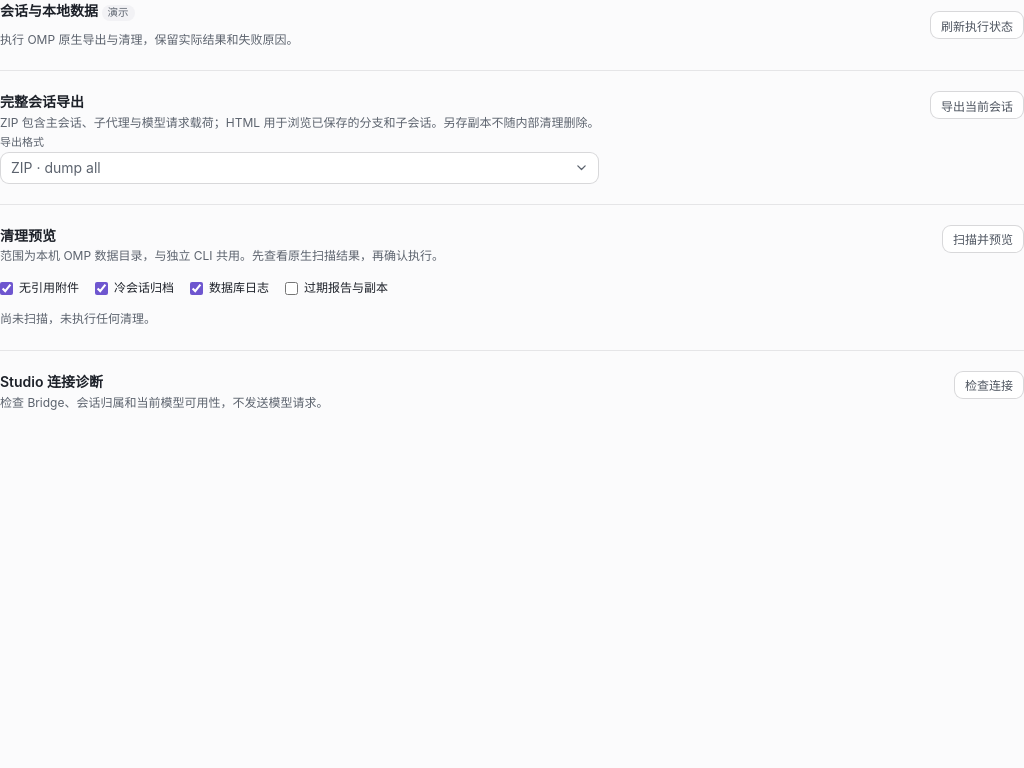
Test: previews cleanup, confirms it explicitly, and exports locally without any real writes
The image size is (1024, 768).
Expected: the button "确认清理…" is not shown
Step 1. Click the button "扫描并预览" → (983, 239), box [942,225,1023,253]
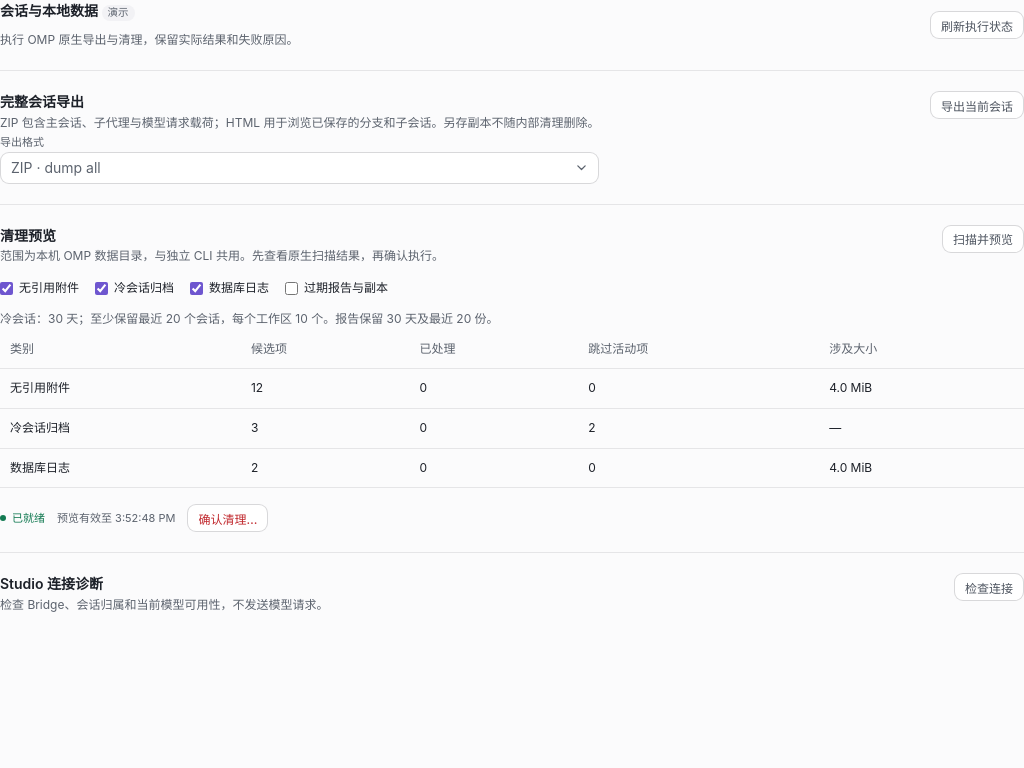
Step 2. Click the button "确认清理…" → (228, 518), box [187,504,268,532]
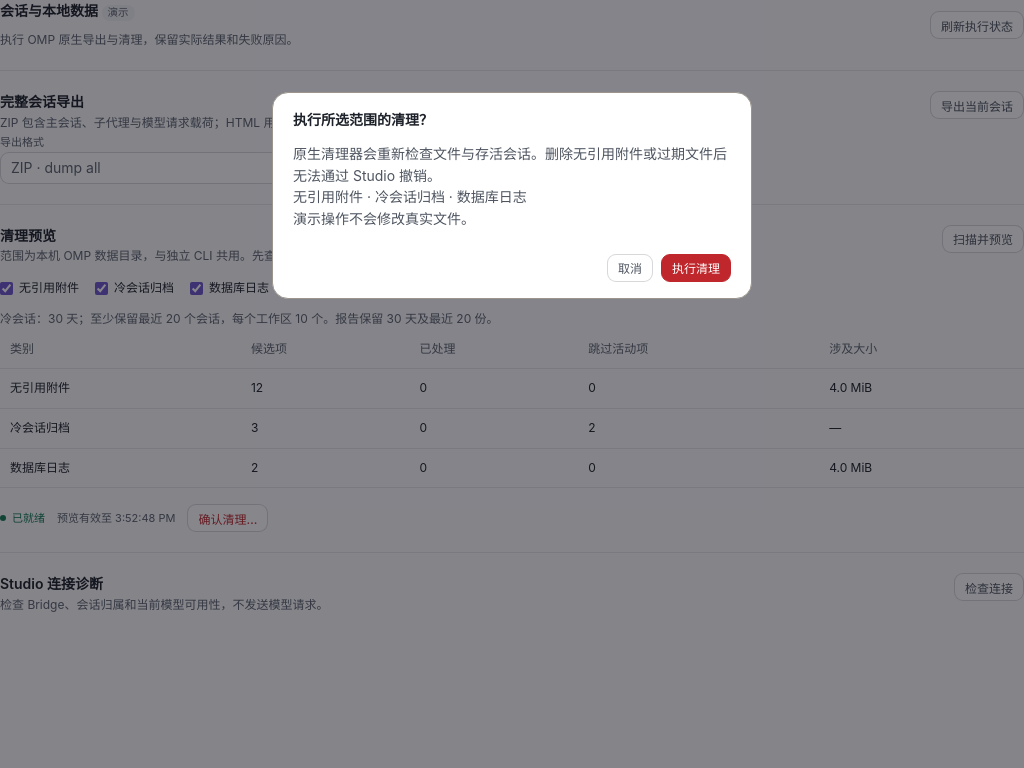
Now the dialog named "确认本地清理" is shown, box [272,92,752,299]
Step 3. Click the button "执行清理" → (696, 268), box [661,254,731,282]
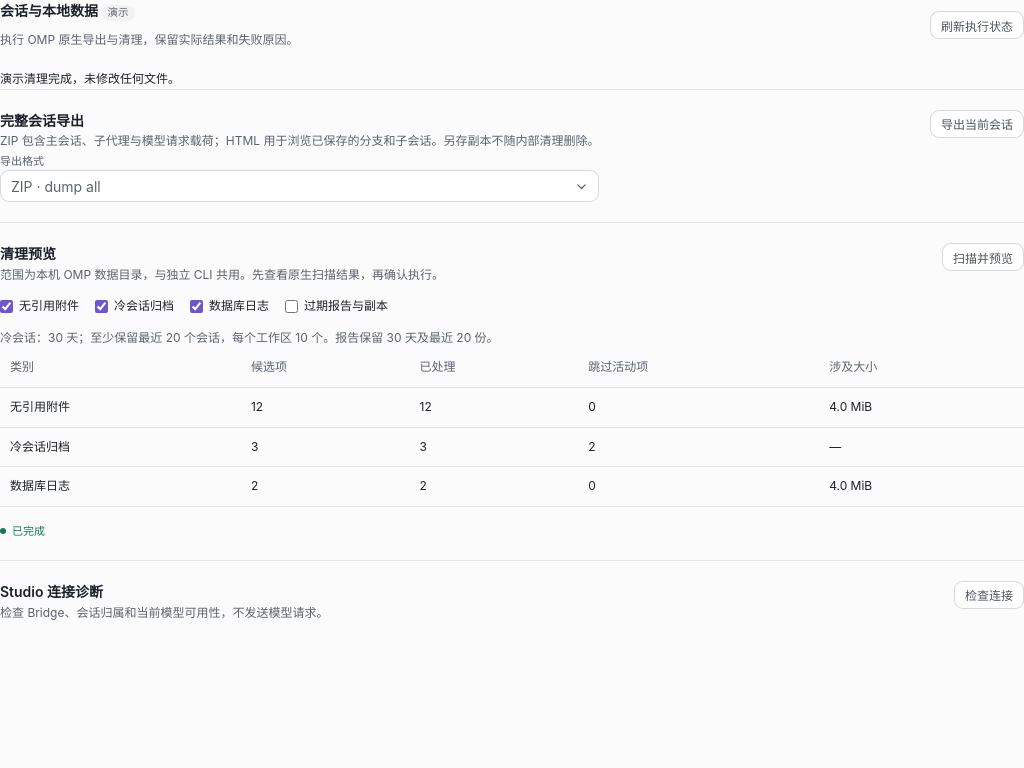
Now the text "演示清理完成，未修改任何文件。" is shown, box [0,71,180,86]
Step 4. Click the button "导出当前会话" → (977, 124), box [930,110,1023,138]
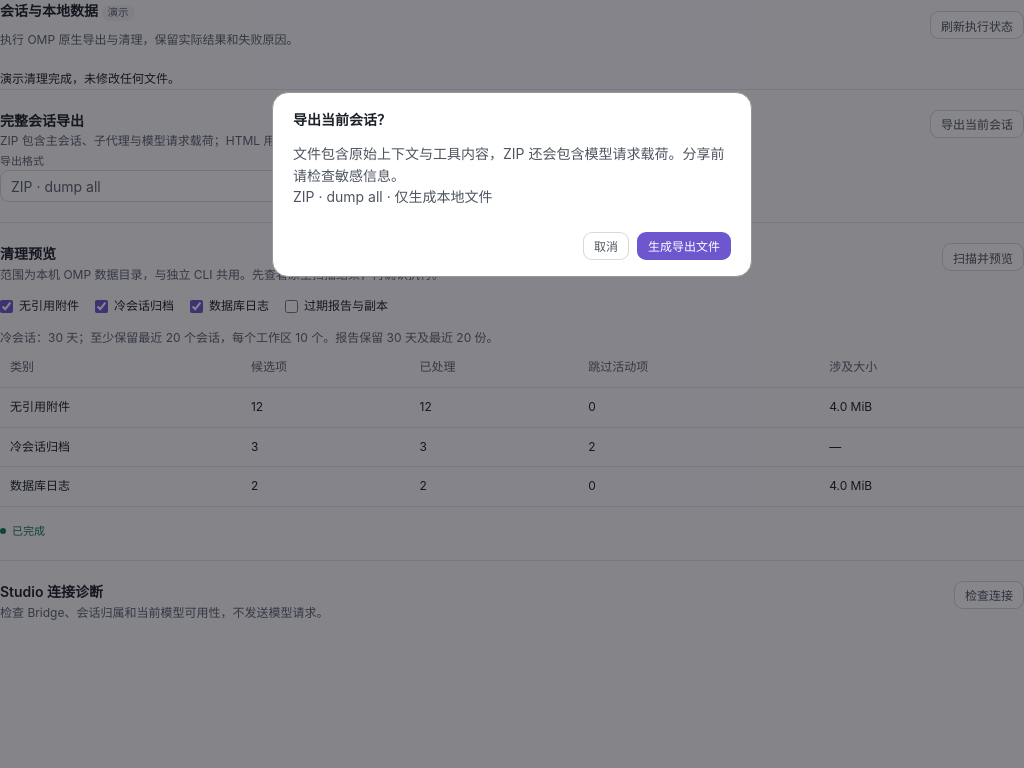
Step 5. Click the button "生成导出文件" → (684, 246), box [637,232,731,260]
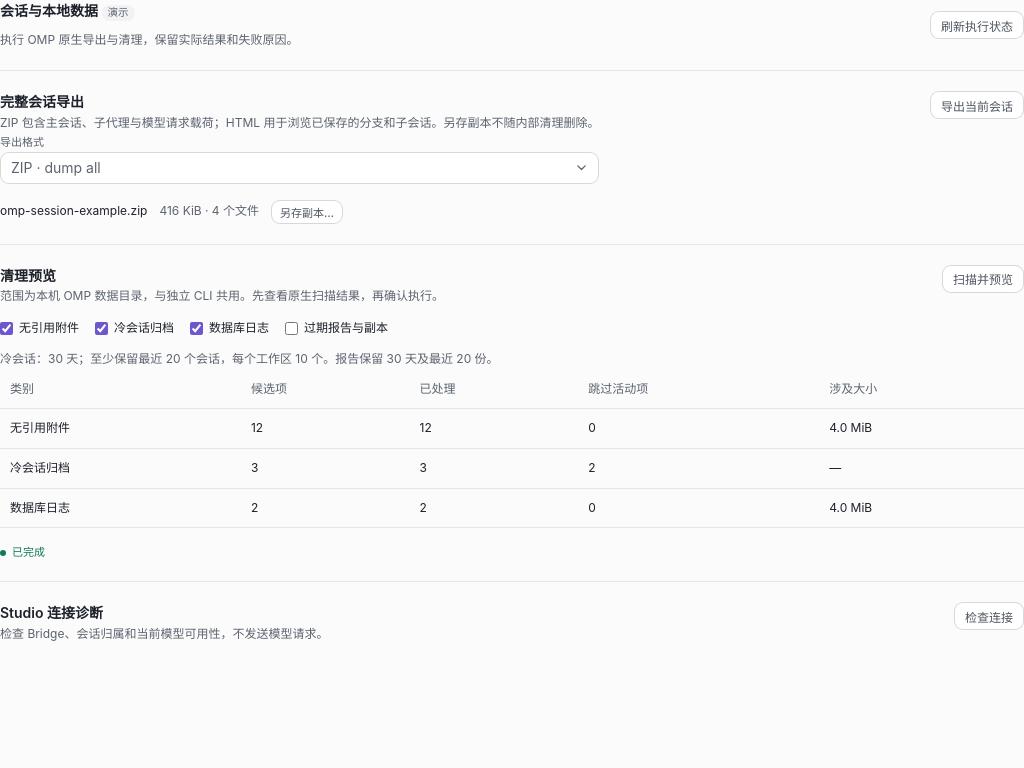
Step 6. Click the button "另存副本…" → (307, 212), box [271,200,343,224]
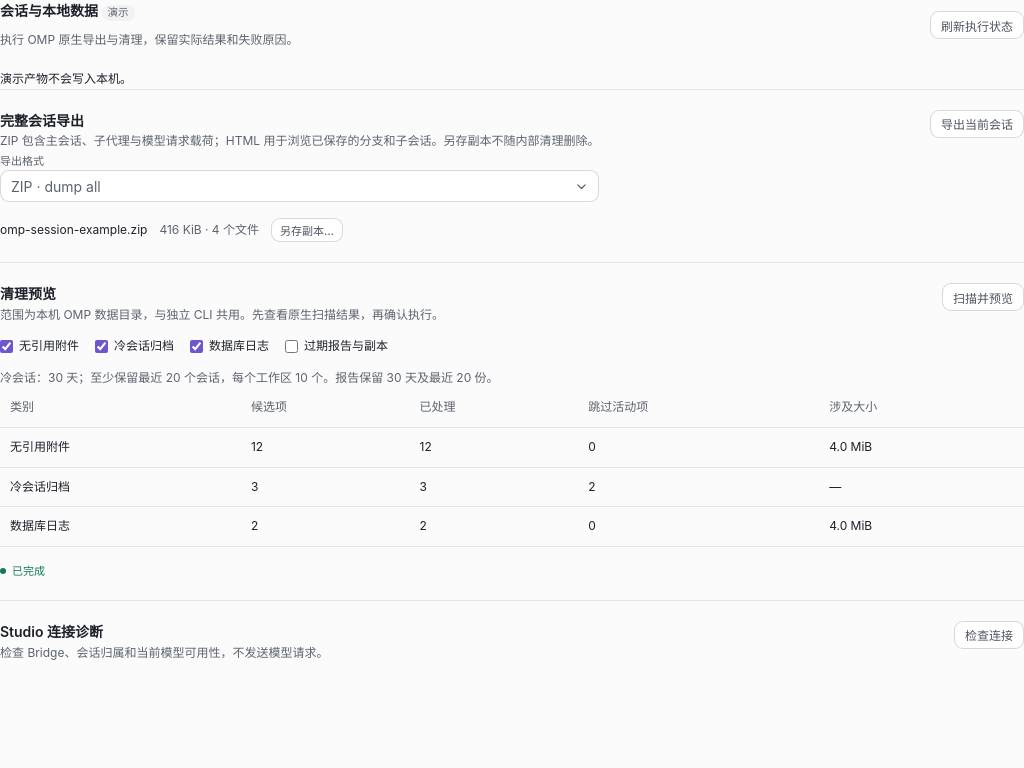
Now the text "演示产物不会写入本机。" is shown, box [0,71,132,86]
